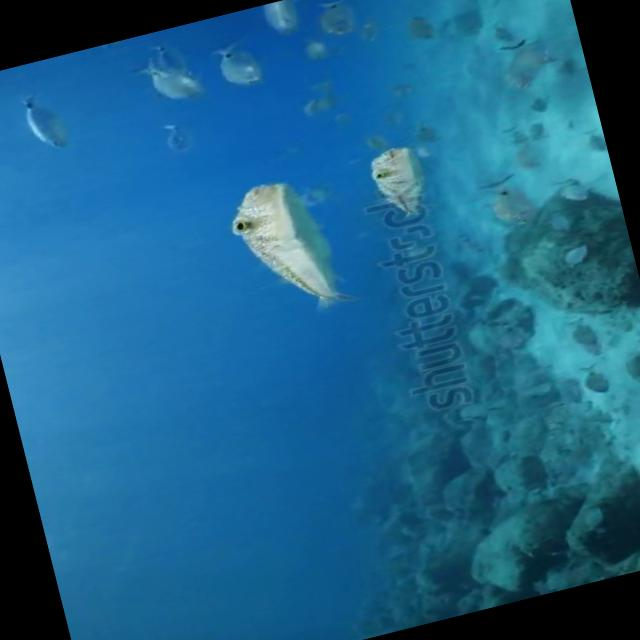Balon Baligi: (218, 168, 357, 328), (350, 133, 438, 231)
